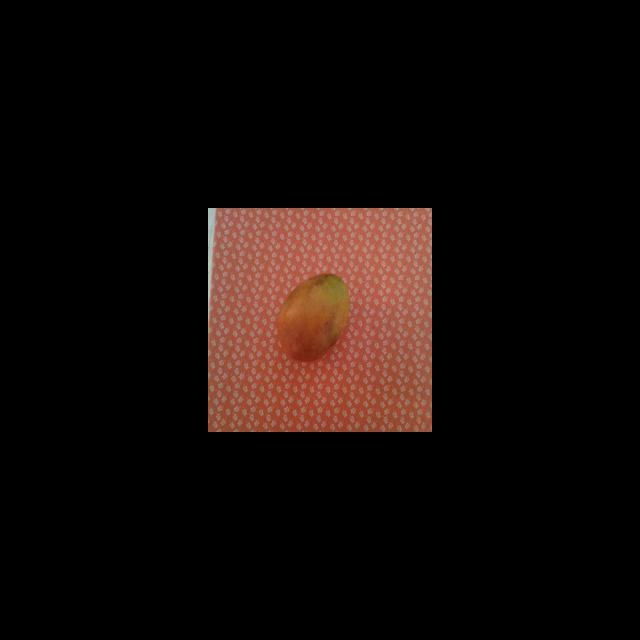Mango: (274, 272, 350, 361)
